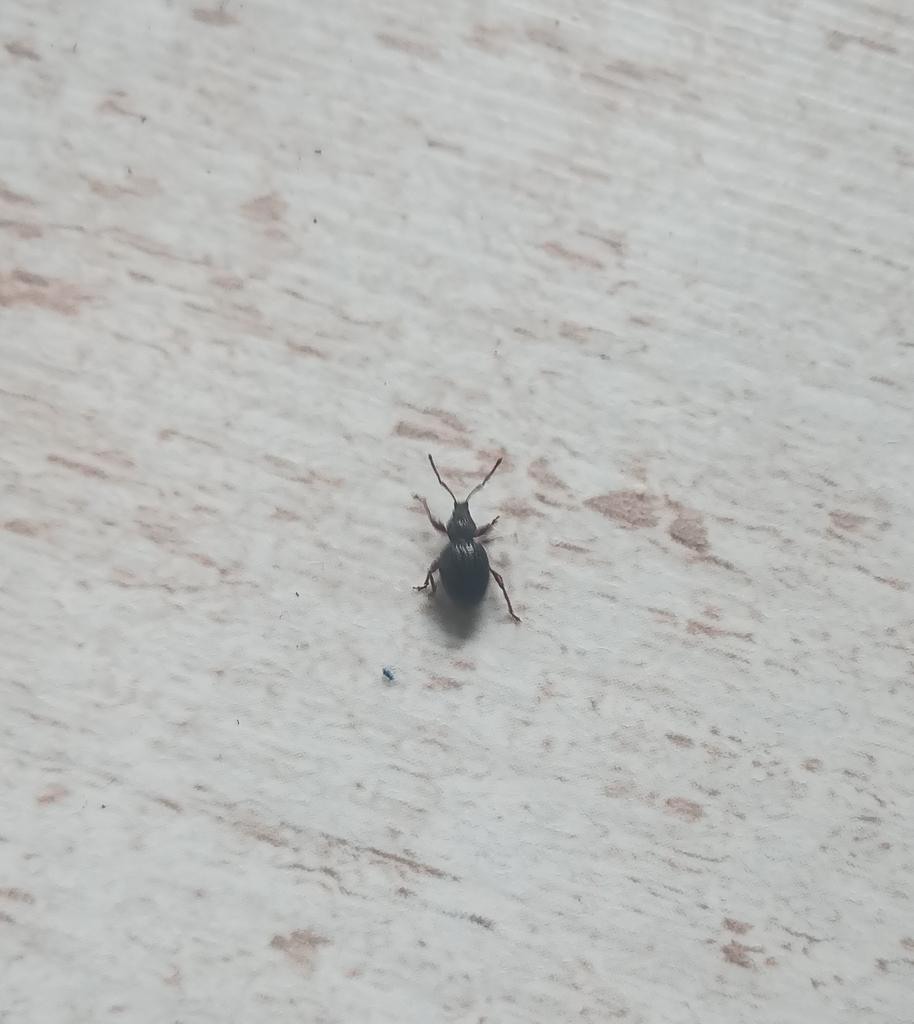weevils: (370, 433, 569, 649)
